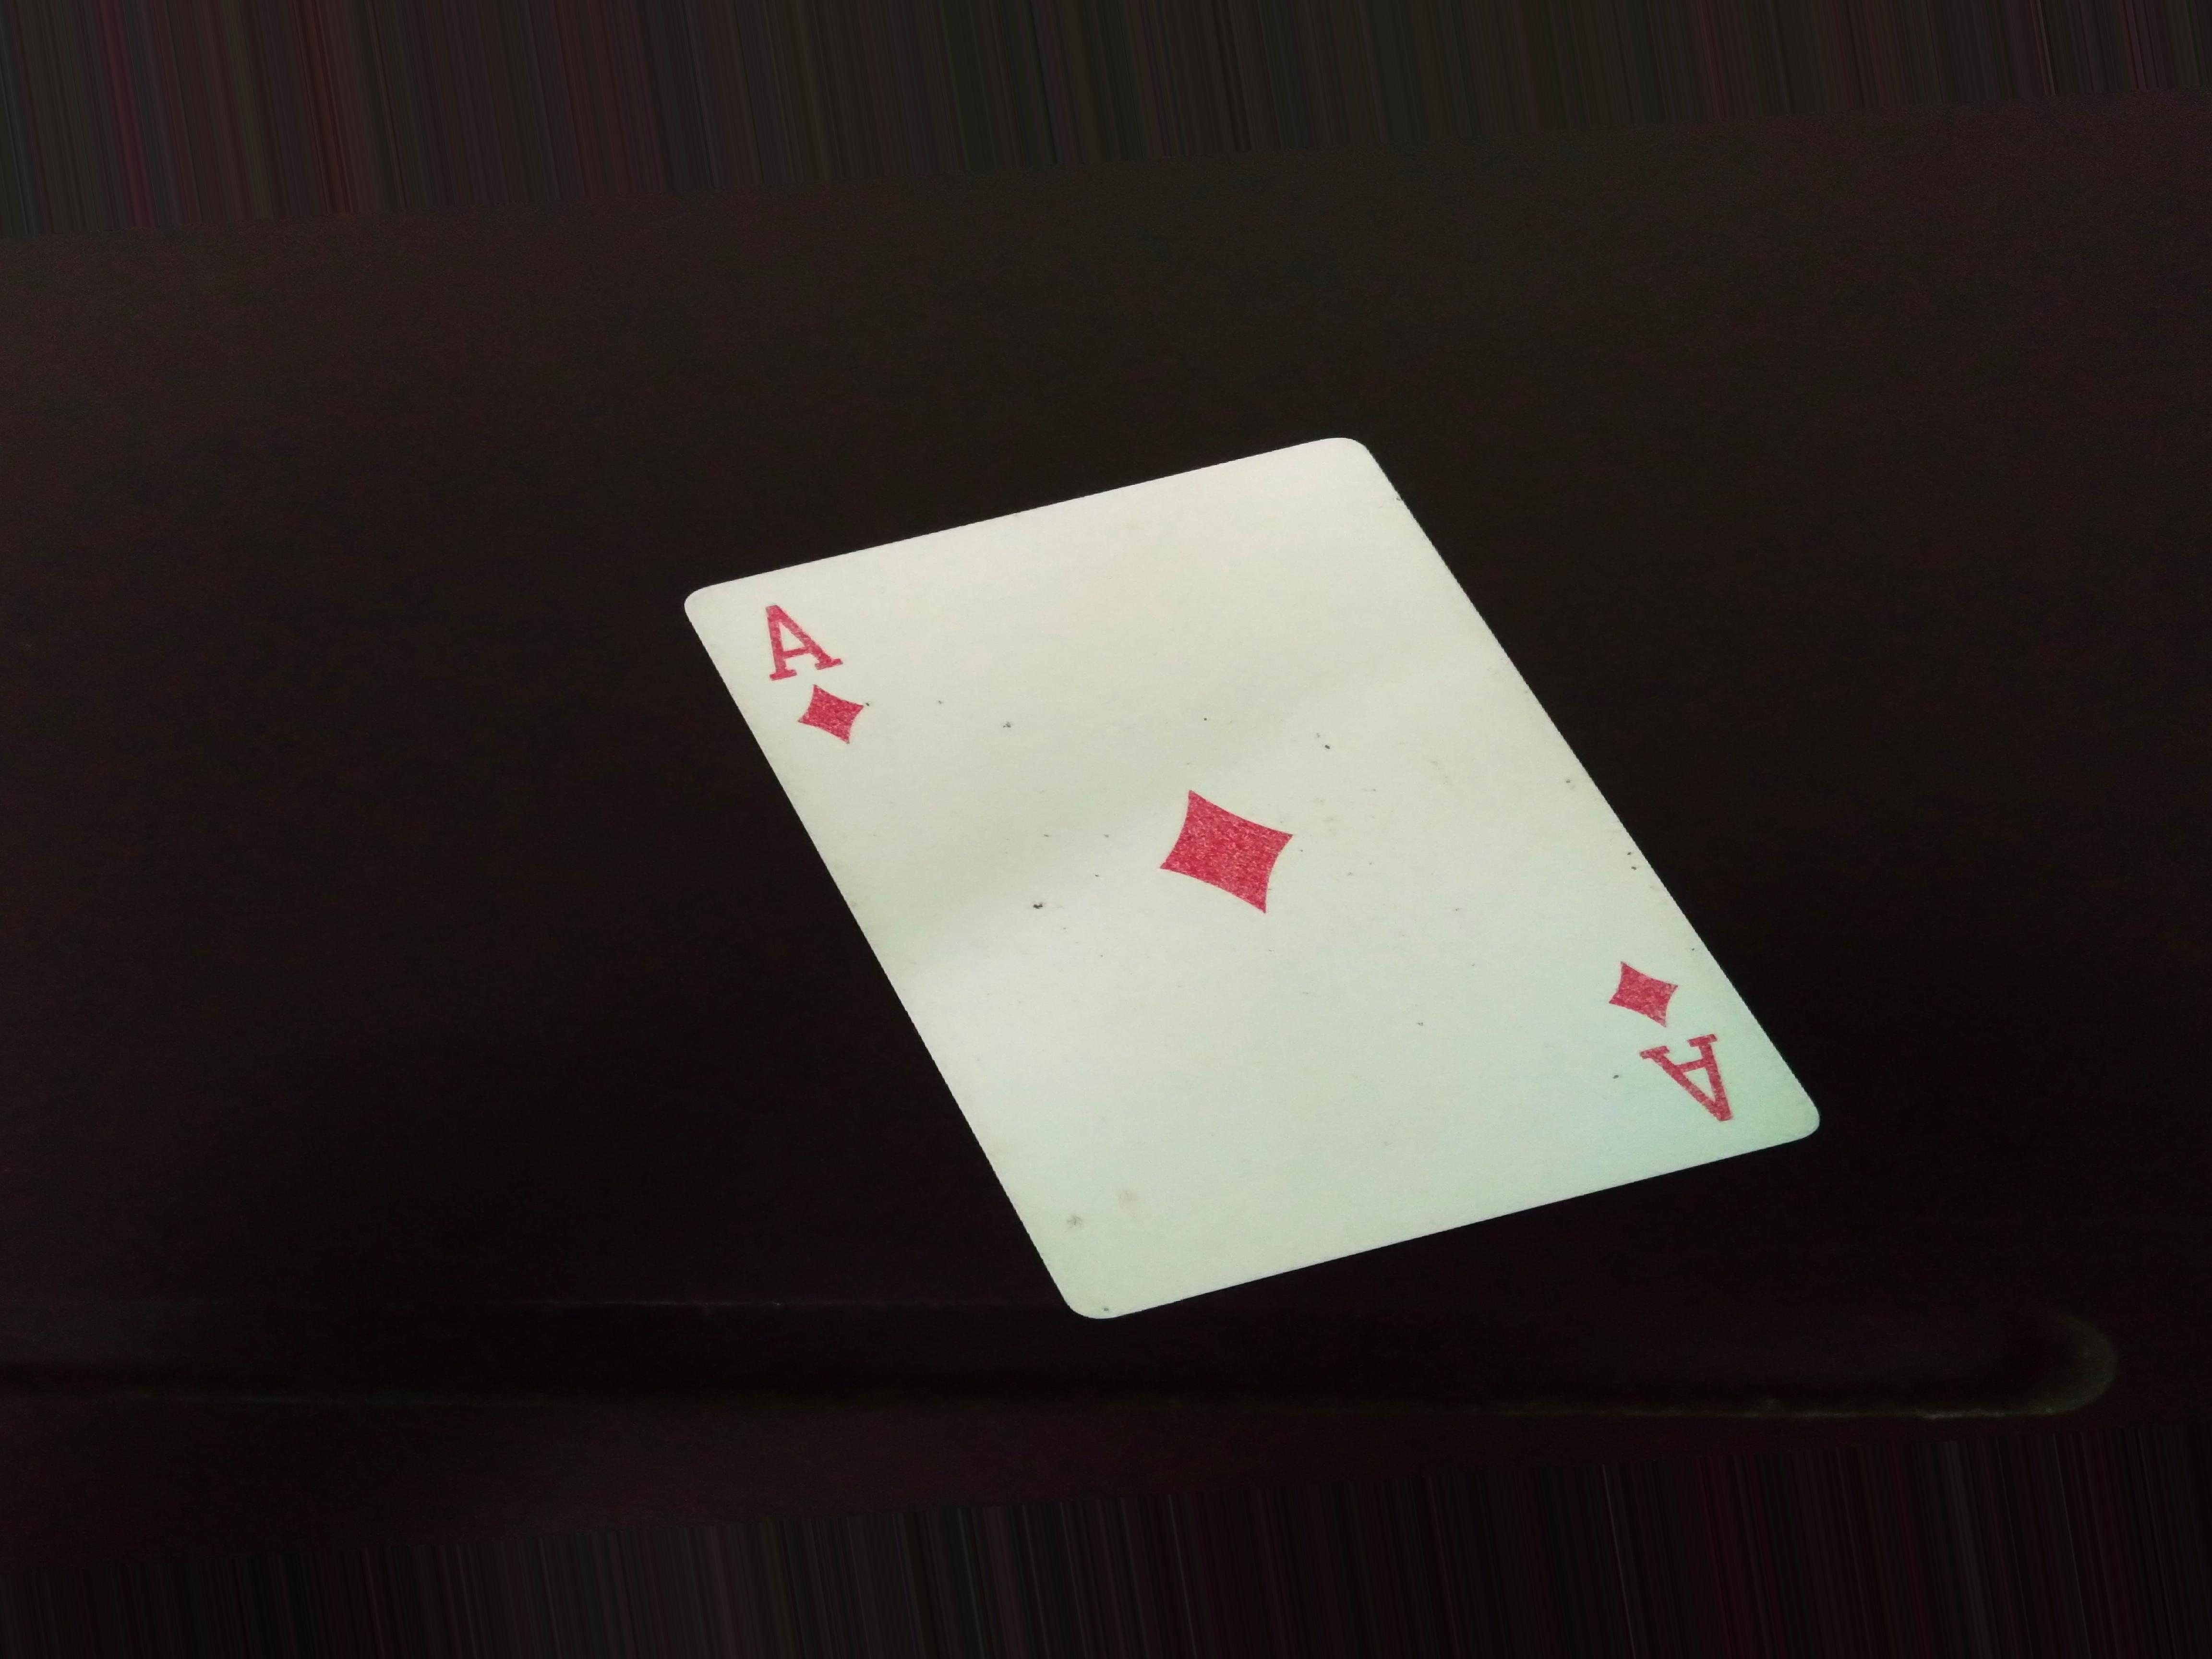AD: (737, 589, 871, 748)
